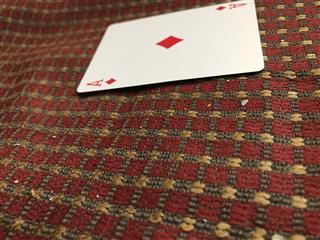AceOfDiamonds: (76, 1, 264, 92)
